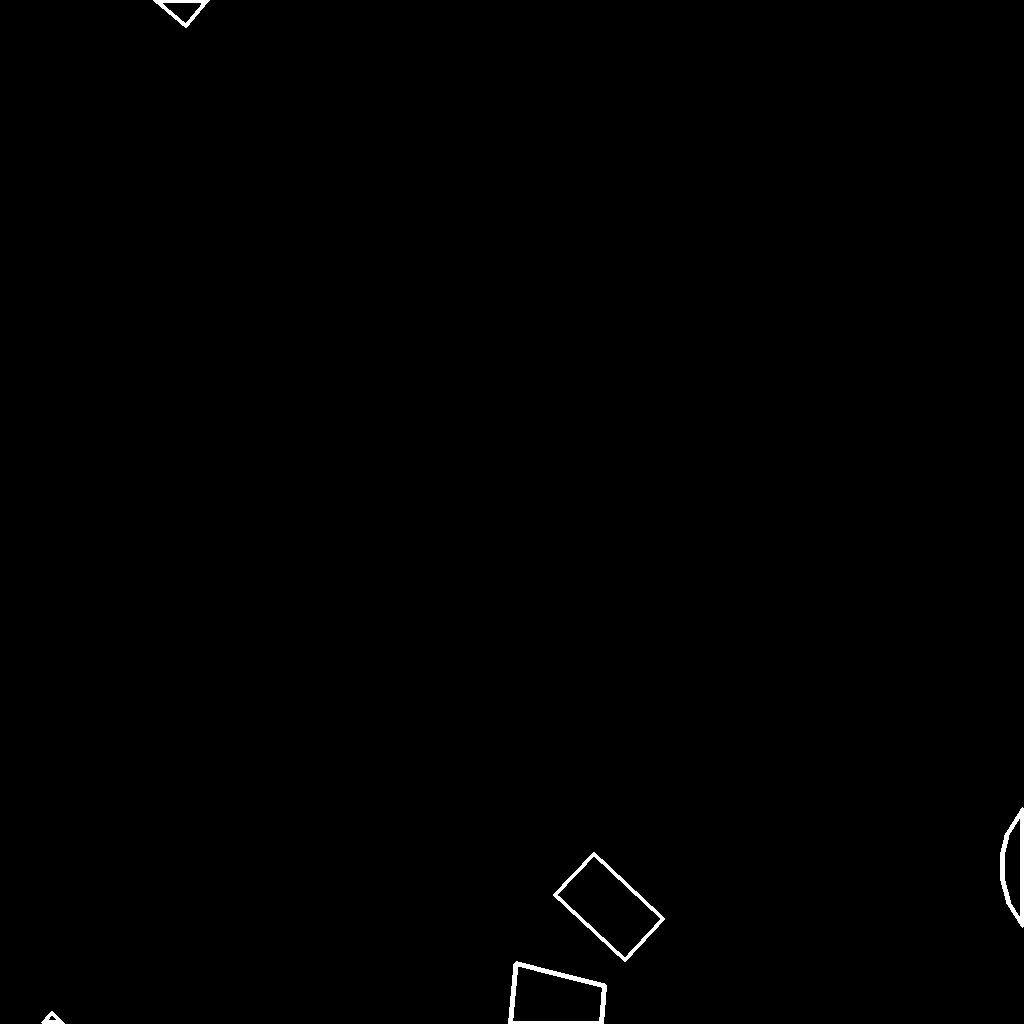building: (555, 854, 664, 961), (510, 963, 606, 1024), (1002, 809, 1024, 927), (155, 0, 209, 27), (43, 1013, 64, 1024)
